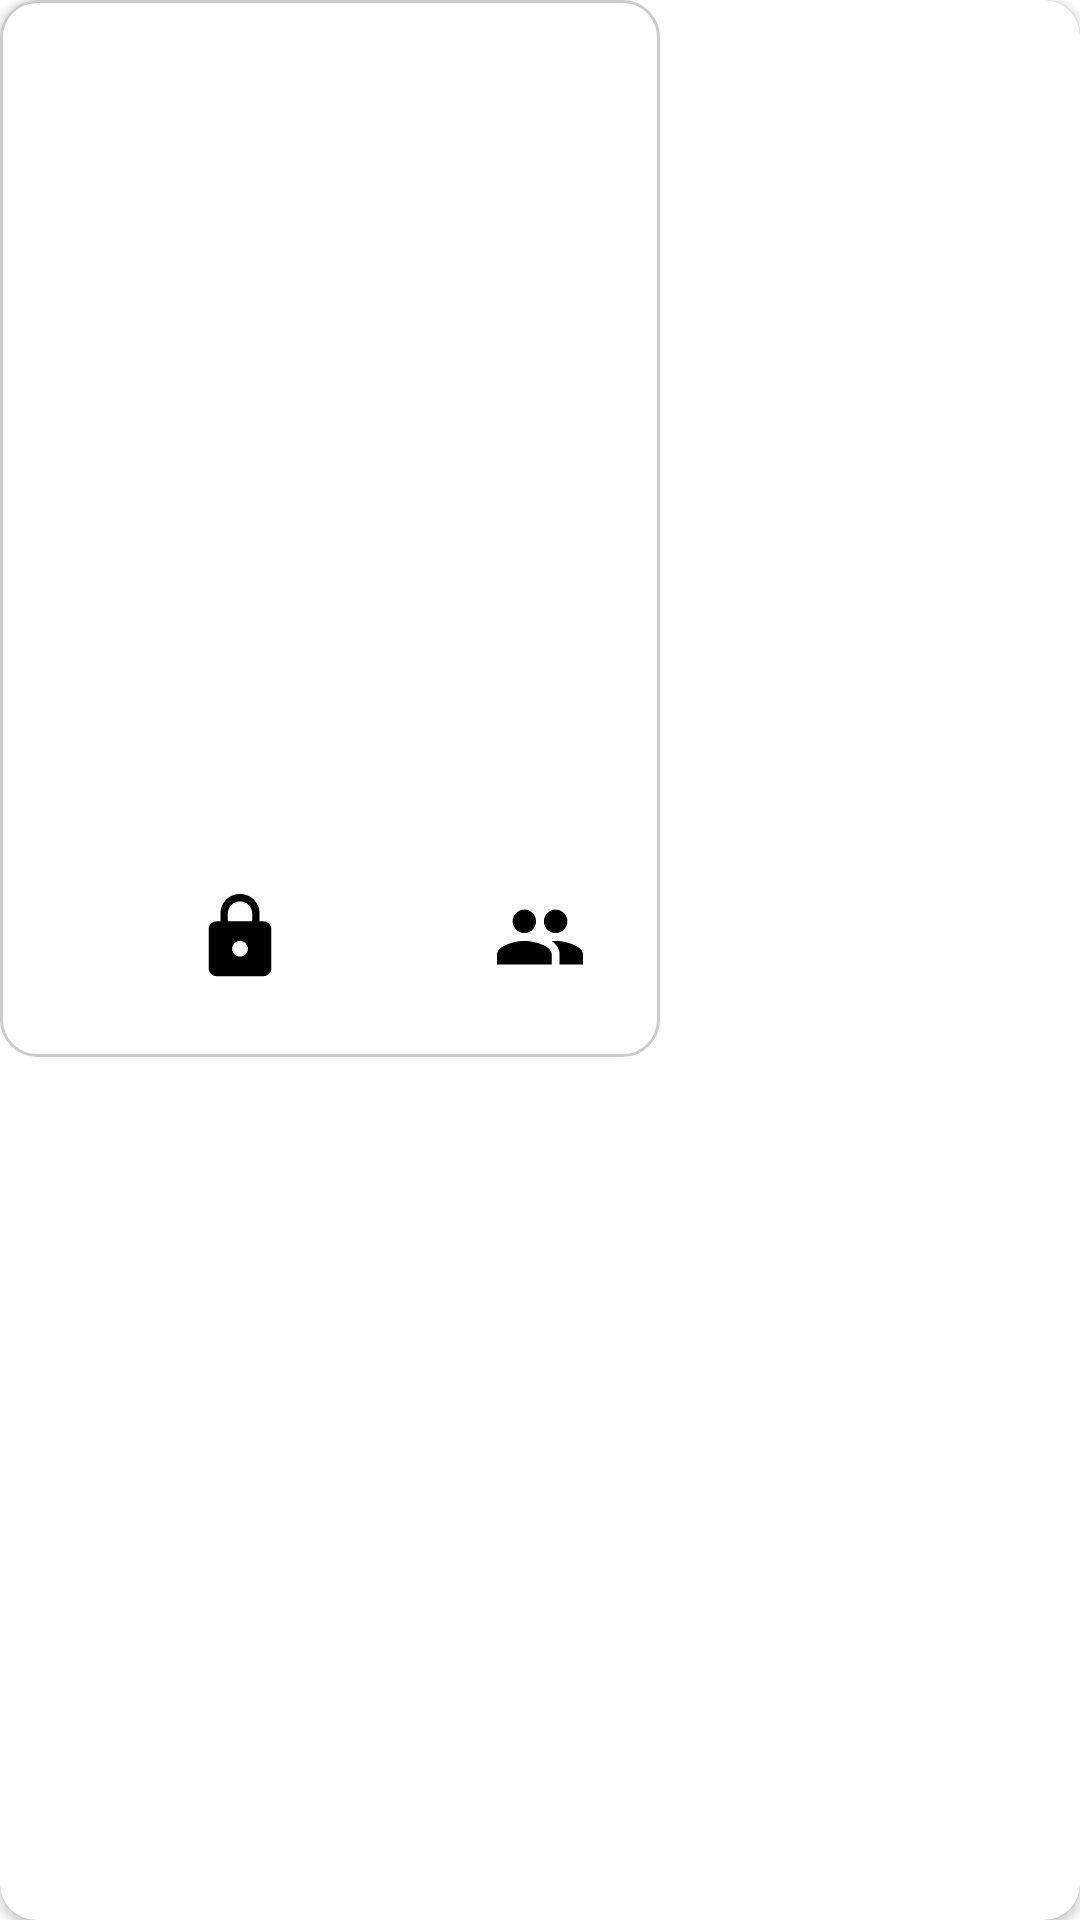

Screen size 1080w x 1920h. Icon name, then its center in pixels as [x,y]:
locked: [240,935]
people: [540,937]
